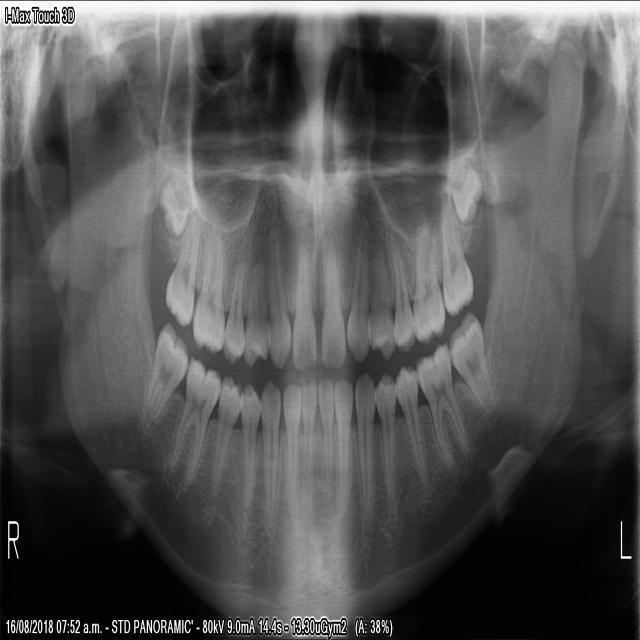LCD: (353, 370, 374, 516)
LCU: (346, 206, 369, 368)
LID: (334, 379, 352, 504), (319, 379, 334, 512)
LIU: (318, 230, 345, 370)
LMD: (415, 340, 470, 465), (448, 308, 499, 419)
LMU: (412, 207, 446, 345), (441, 193, 474, 321), (451, 162, 484, 225)
LPMD: (394, 359, 427, 487), (374, 368, 395, 499)
LPMU: (369, 225, 395, 359), (388, 227, 415, 355)
RCD: (258, 374, 279, 527)
RCU: (265, 205, 290, 375)
RID: (279, 378, 301, 509), (299, 375, 316, 503)
RIU: (290, 230, 316, 373)
RMD: (165, 349, 220, 490), (139, 317, 188, 424)
RMU: (161, 213, 201, 332), (191, 217, 223, 355), (154, 159, 195, 239)
RPMD: (208, 378, 240, 503), (239, 378, 259, 509)
RPMU: (222, 252, 247, 371), (243, 254, 267, 371)
